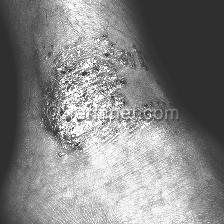Non-Cancerous Skin Condition: (38, 70, 123, 148), (57, 40, 147, 70)
